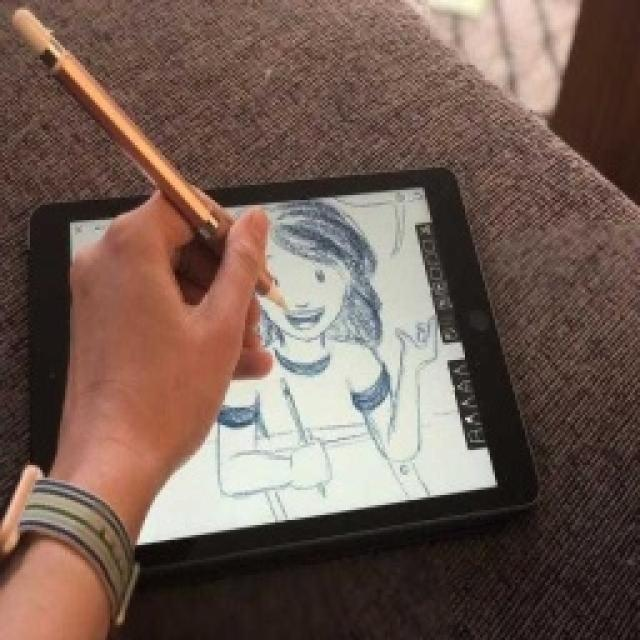pencil: (22, 165, 540, 580)
